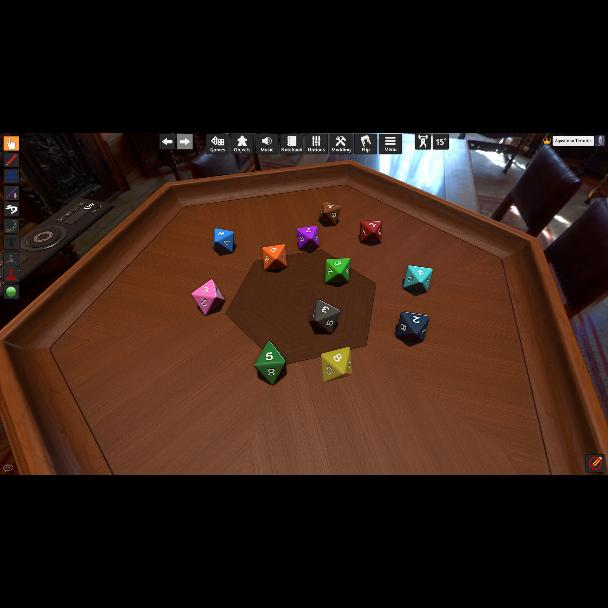d8: (256, 342, 286, 384), (192, 279, 224, 315), (320, 346, 350, 382), (310, 300, 340, 334), (399, 312, 430, 342), (403, 265, 431, 293), (326, 258, 351, 284), (262, 245, 286, 271), (318, 202, 340, 227), (359, 220, 381, 244), (297, 226, 317, 250), (214, 228, 234, 252)
